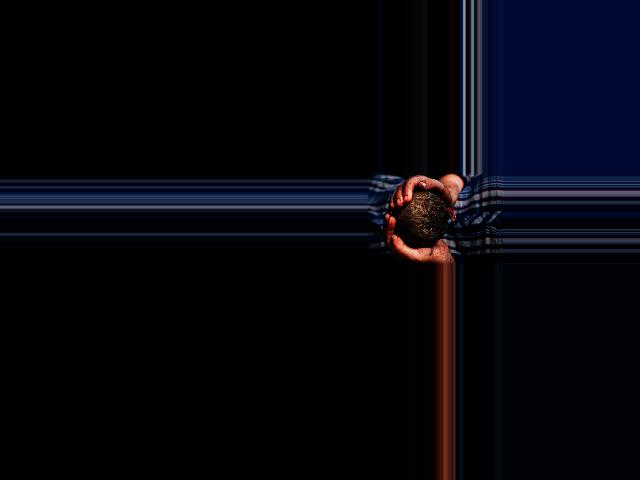beet: (394, 191, 457, 246)
